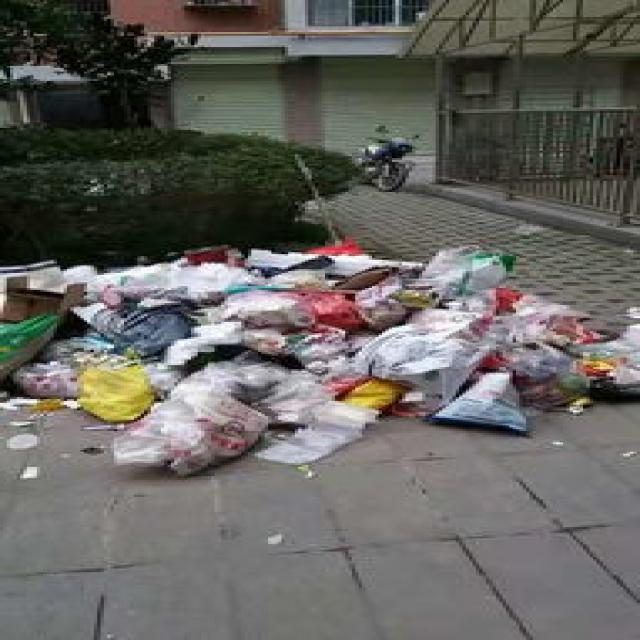garbage: (0, 235, 637, 478)
